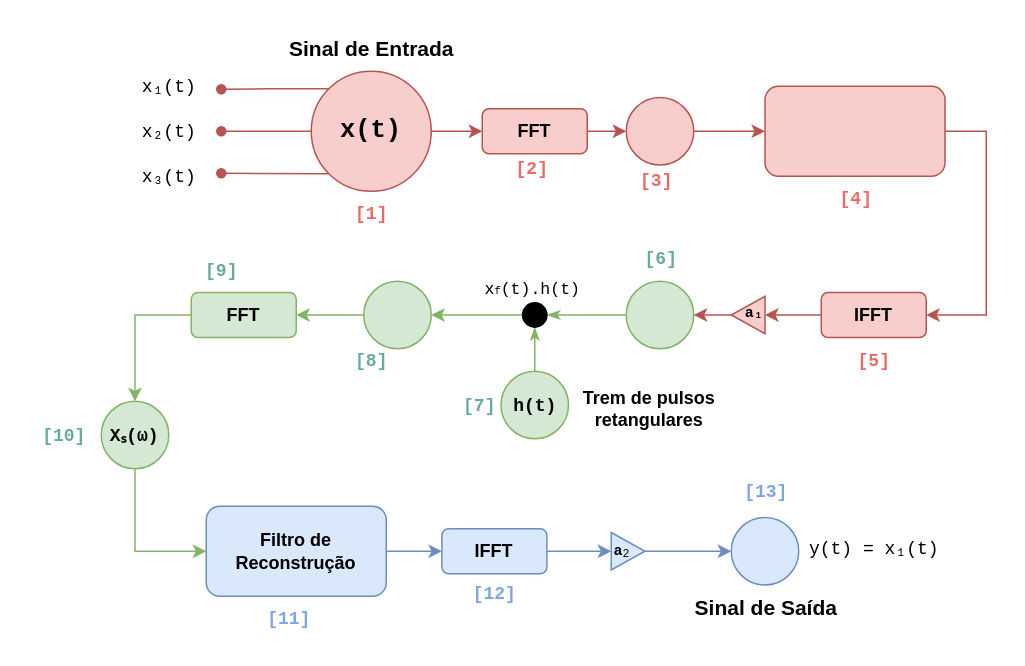
The diagram is 1025 pixels wide and 666 high, and some of its shapes have lost their labels. The centre of each missing label's shape, as x and y in pixels:
"Filtro Anti-Aliasing" goes at [854,130].
"x f (t)" goes at [659,314].
"X(ω )" goes at [659,130].
"xₛ(t)" goes at [396,314].
"y(t)" goes at [764,550].
